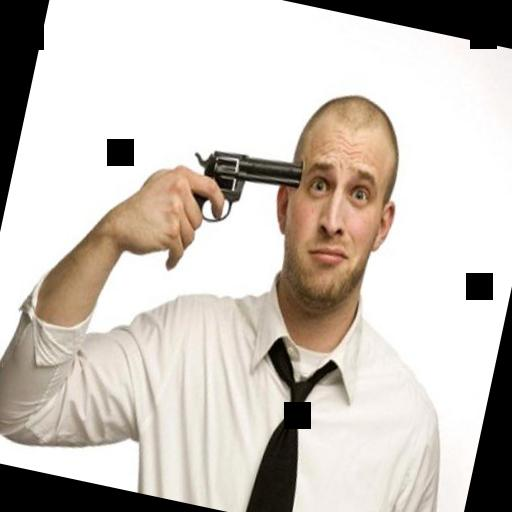Handgun: (176, 133, 304, 239)
